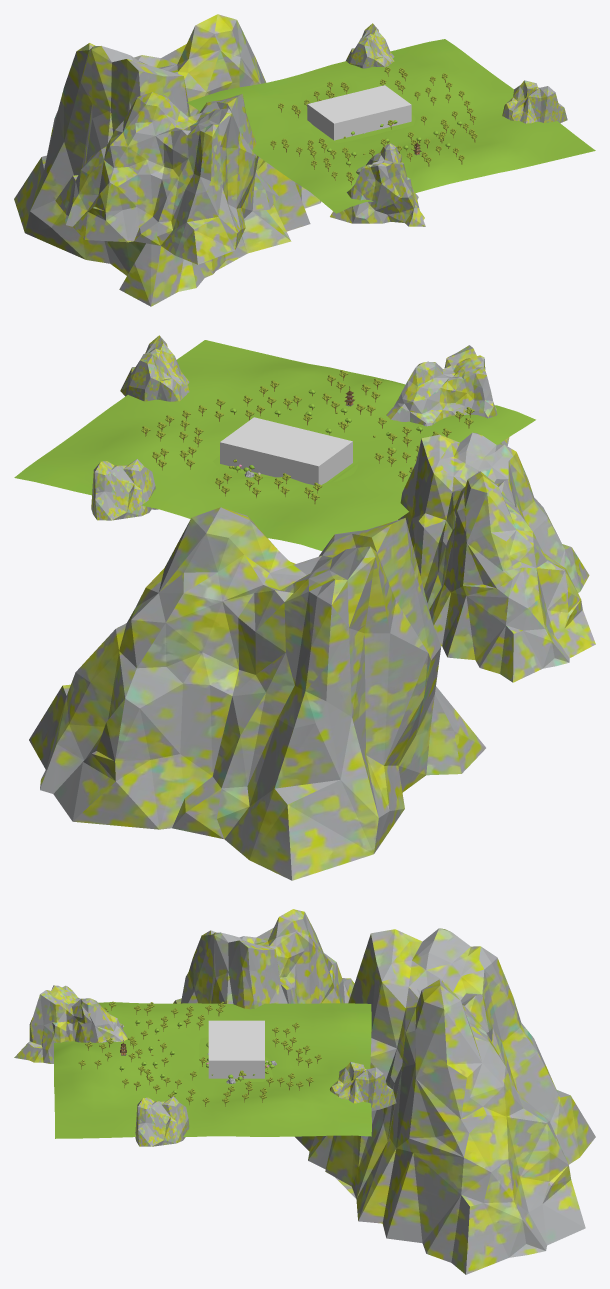
Rendered from uno_garden.glb.
The picture shows the model from 3 angles, top to bottom: view 1: azimuth 30°, elevation 25°; view 2: azimuth 150°, elevation 25°; view 3: azimuth 270°, elevation 25°; orthographic projection. The views are drawn at different scales.
Visible parts, largest first — view 1: ground_big, rock_huge_1, rock_huge_1.001, rock_huge_1.002, active_zone_bbox, rock_huge_2.001, rock_huge_2, ground; view 2: rock_huge_1, ground_big, rock_huge_1.001, active_zone_bbox, rock_huge_1.002, rock_huge_2, rock_huge_2.001; view 3: rock_huge_1, ground_big, rock_huge_1.001, rock_huge_1.002, active_zone_bbox, rock_huge_2.001, rock_huge_2, ground.
Part boxes in pixels (bbox=[...]): ground_big: bbox=[187, 39, 595, 213]; rock_huge_1: bbox=[14, 14, 321, 306]; rock_huge_1.001: bbox=[55, 92, 279, 264]; rock_huge_1.002: bbox=[330, 143, 425, 226]; active_zone_bbox: bbox=[307, 85, 411, 140]; rock_huge_2.001: bbox=[502, 80, 567, 123]; rock_huge_2: bbox=[346, 23, 394, 68]; ground: bbox=[310, 114, 415, 143]; rock_huge_1: bbox=[29, 507, 485, 880]; ground_big: bbox=[14, 340, 535, 550]; rock_huge_1.001: bbox=[398, 432, 595, 682]; active_zone_bbox: bbox=[220, 417, 352, 486]; rock_huge_1.002: bbox=[386, 345, 509, 445]; rock_huge_2: bbox=[91, 459, 155, 520]; rock_huge_2.001: bbox=[120, 335, 189, 401]; rock_huge_1: bbox=[295, 928, 595, 1274]; ground_big: bbox=[54, 1002, 371, 1138]; rock_huge_1.001: bbox=[173, 909, 354, 1009]; rock_huge_1.002: bbox=[14, 985, 127, 1063]; active_zone_bbox: bbox=[208, 1020, 264, 1078]; rock_huge_2.001: bbox=[135, 1096, 189, 1146]; rock_huge_2: bbox=[330, 1061, 396, 1110]; ground: bbox=[198, 1036, 272, 1082].
Size of what is drawn, in the model's own units: 813 by 394 by 921.
Materials: 9 (9 with a texture image).
